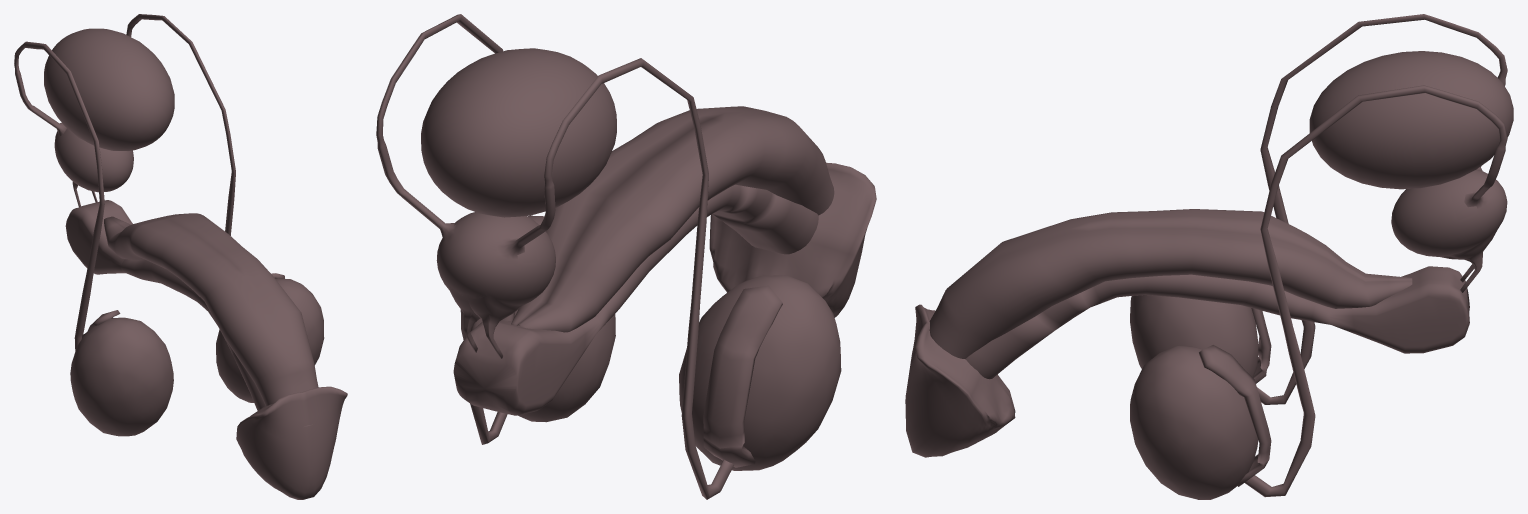
3 views of the same model, side by side, from view 1: azimuth 30°, elevation 25°; view 2: azimuth 150°, elevation 25°; view 3: azimuth 270°, elevation 25° (orthographic). The views are drawn at different scales.
Parts seen in each view (by area): view 1: Cube; view 2: Cube; view 3: Cube.
Part boxes in pixels (x1=…): Cube: x1=14, y1=14, x2=347, y2=499; Cube: x1=376, y1=14, x2=876, y2=499; Cube: x1=905, y1=14, x2=1513, y2=499.
Bounding box in the file's own units: 334 × 430 × 583.
